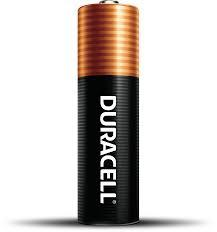Battery: (78, 3, 139, 225)
